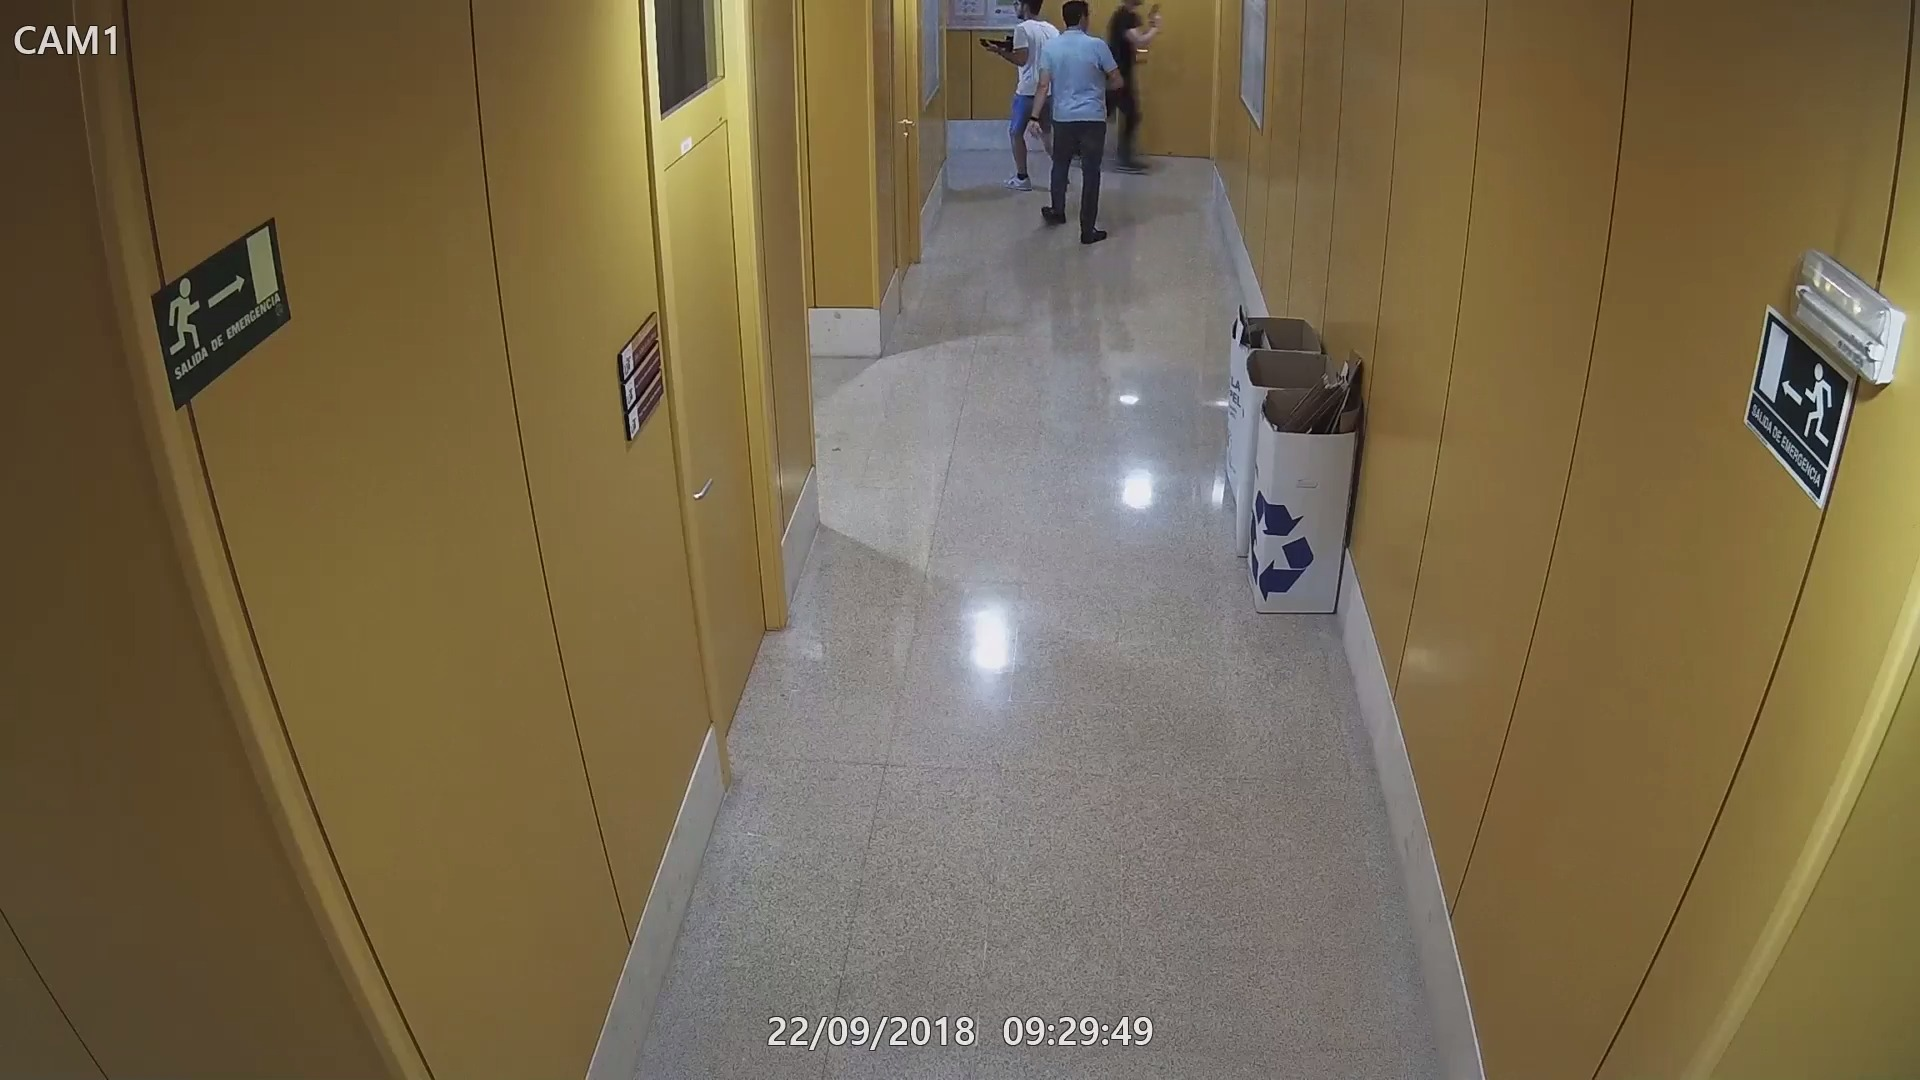Handgun: (1143, 0, 1168, 33)
Short_rifle: (975, 30, 1018, 58)
